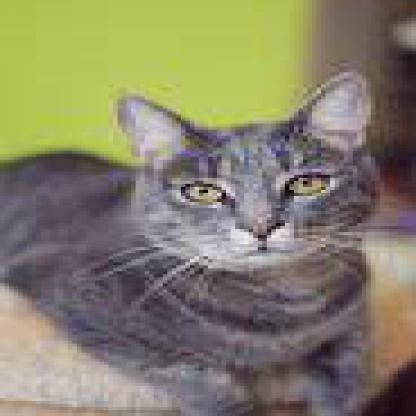cat: (4, 69, 380, 413)
